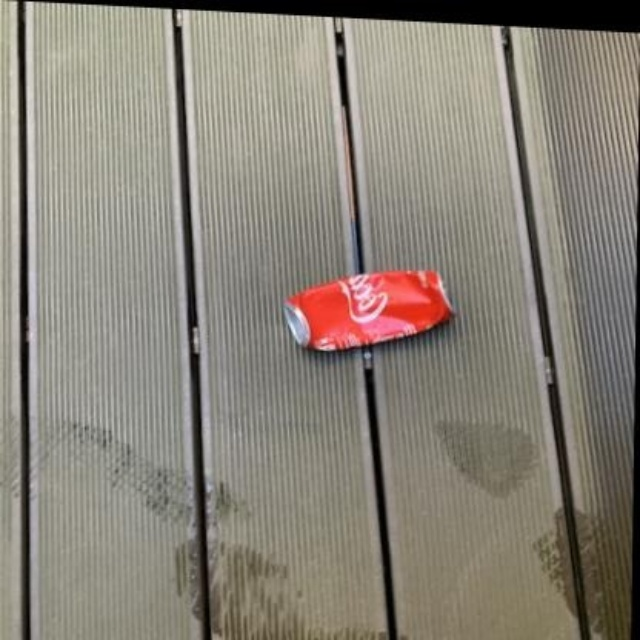trash: (283, 271, 451, 349)
